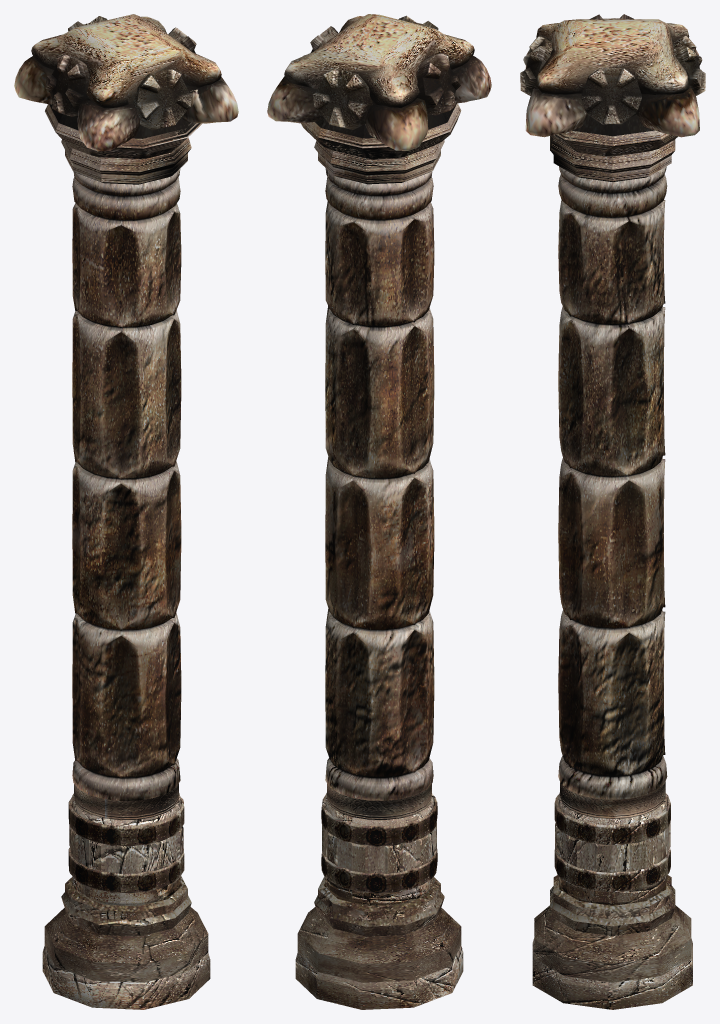
Rendered from TRP_Colum 01.FBX.
The picture shows the model from 3 angles, left to right: view 1: azimuth 30°, elevation 25°; view 2: azimuth 150°, elevation 25°; view 3: azimuth 270°, elevation 25°; orthographic projection.
Parts seen in each view (by area): view 1: TRP Colum A_00; view 2: TRP Colum A_00; view 3: TRP Colum A_00.
Boxes of the visible parts, x1,y1,x2,y2 form: TRP Colum A_00: [14, 14, 238, 1009]; TRP Colum A_00: [267, 14, 491, 1009]; TRP Colum A_00: [520, 14, 705, 1009].
Bounding box in the file's own units: 19.44 × 21.16 × 119.
1 material, 1 textured.
